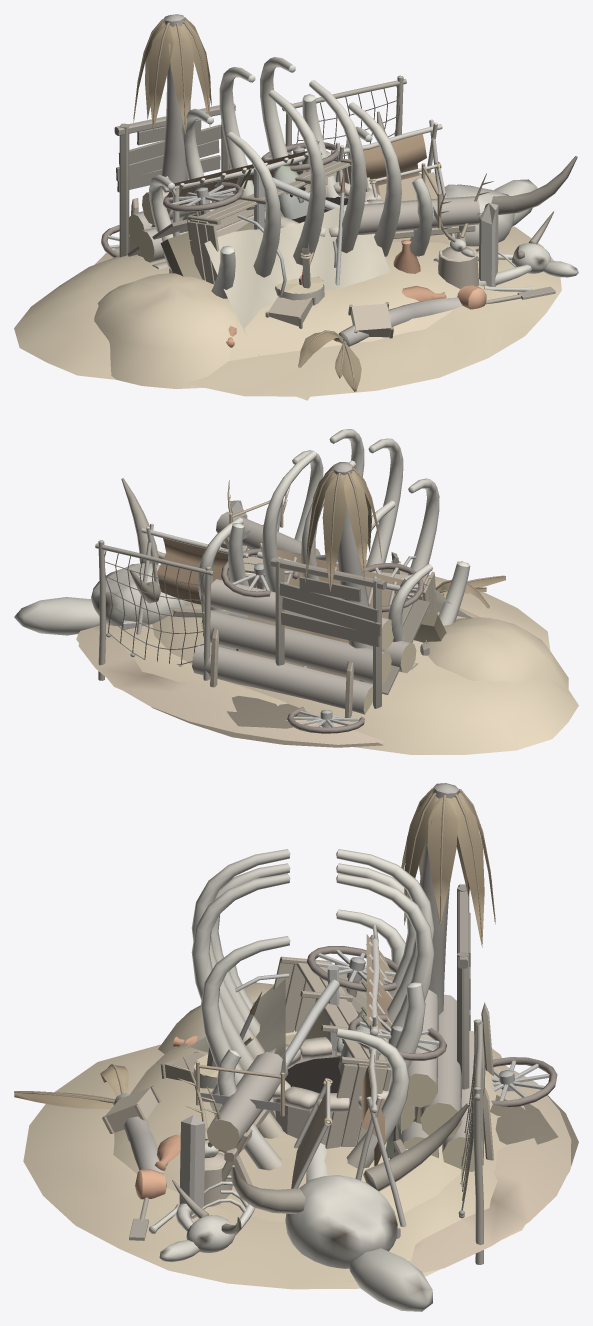
The model's file is stories_warm.glb.
The picture shows the model from 3 angles, top to bottom: view 1: azimuth 30°, elevation 25°; view 2: azimuth 150°, elevation 25°; view 3: azimuth 270°, elevation 25°; orthographic projection. The views are drawn at different scales.
Parts seen in each view (by area): view 1: story_ribs, story_caravan, story_oasis, story_boat, story_hunter, story_woodcut, story_shrine; view 2: story_ribs, story_boat, story_woodcut, story_oasis, story_caravan, story_hunter; view 3: story_ribs, story_caravan, story_oasis, story_woodcut, story_boat, story_hunter, story_shrine.
Boxes of the visible parts, x1,y1,x2,y2 form: story_ribs: [14, 57, 577, 388]; story_caravan: [101, 142, 578, 400]; story_oasis: [94, 14, 514, 391]; story_boat: [114, 75, 555, 304]; story_hunter: [151, 119, 493, 288]; story_woodcut: [129, 151, 480, 305]; story_shrine: [196, 166, 310, 288]; story_ribs: [14, 429, 578, 754]; story_boat: [95, 540, 446, 747]; story_woodcut: [192, 500, 418, 717]; story_oasis: [78, 462, 505, 744]; story_caravan: [76, 545, 550, 733]; story_hunter: [136, 480, 407, 684]; story_ribs: [113, 849, 505, 1311]; story_caravan: [23, 946, 557, 1289]; story_oasis: [14, 783, 571, 1281]; story_woodcut: [193, 989, 493, 1185]; story_boat: [129, 884, 578, 1264]; story_hunter: [172, 924, 406, 1227]; story_shrine: [205, 1009, 403, 1158].
Size of the model in its own units: 6.88 by 3.54 by 5.09.
